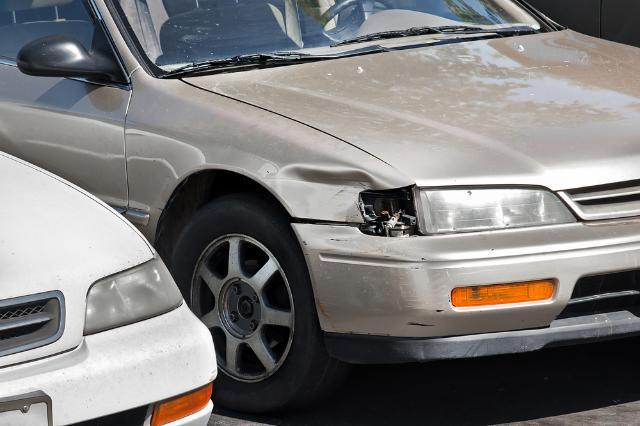dent: (280, 164, 373, 223)
no part: (364, 184, 422, 239)
scratch: (399, 291, 449, 331)
